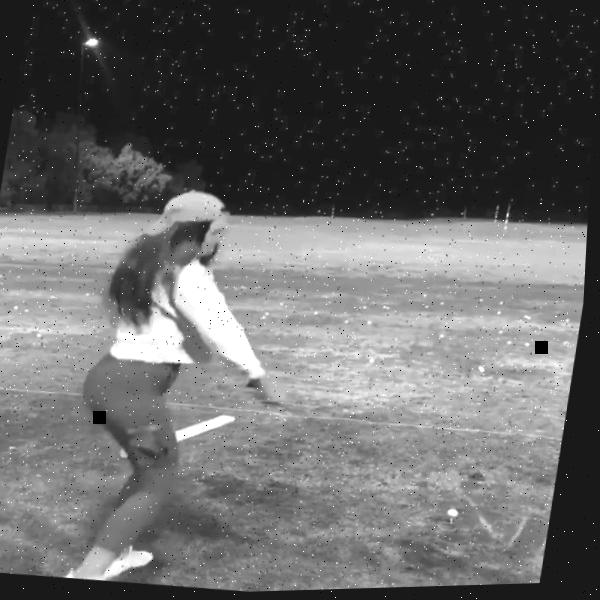GolfBall: (451, 511, 465, 522)
